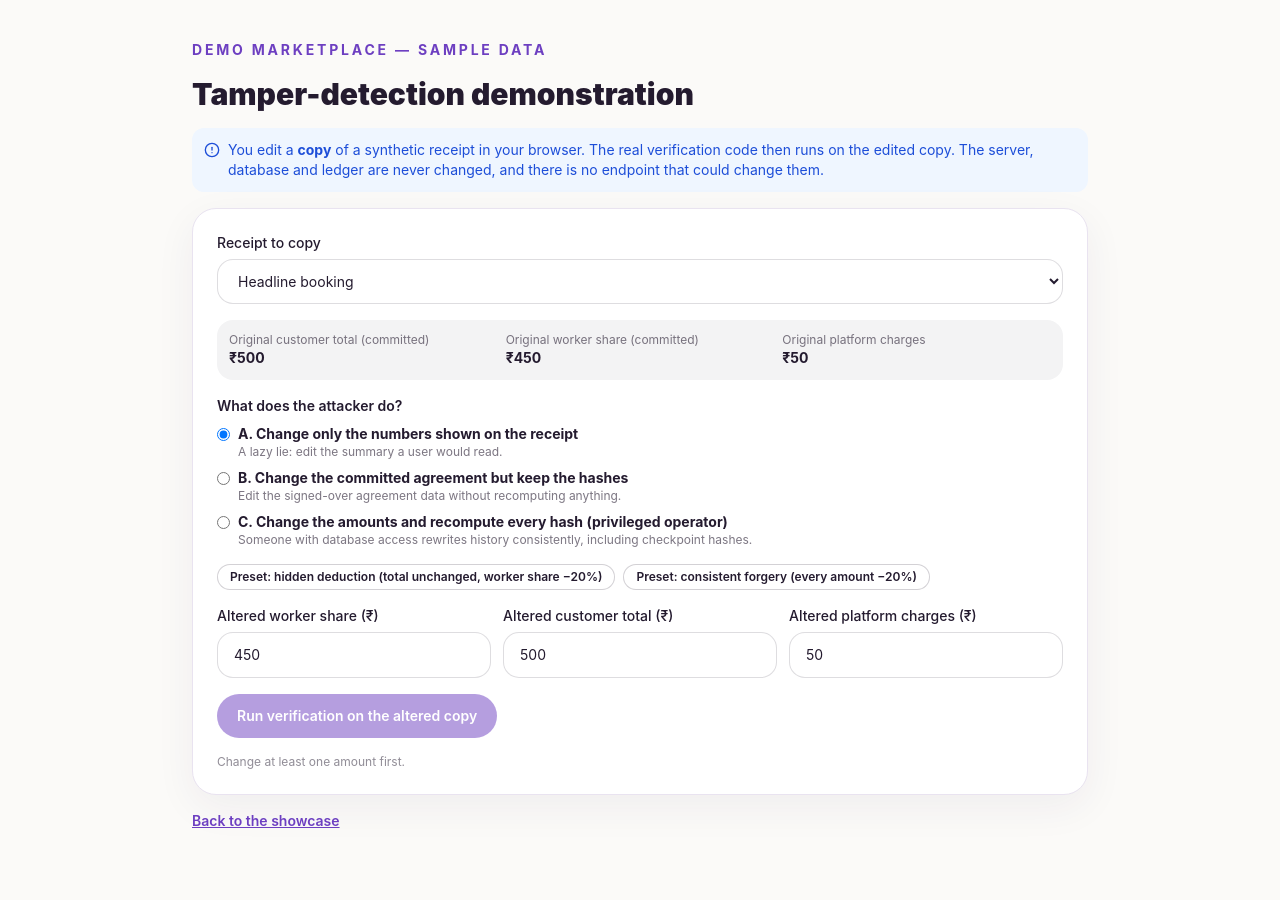
Test: Tamper demonstration page › runs real verification on the edited copy and shows the failure; never contacts a write endpoint
The width and height of the screenshot is (1280, 900).
expect the element with test id "td-original" is shown: met, box [217,320,1063,380]
What coordinates should you click on to do the following:
click the button with test id "preset-hidden"
I would click on:
 (416, 577)
Its box is [217,564,615,590].
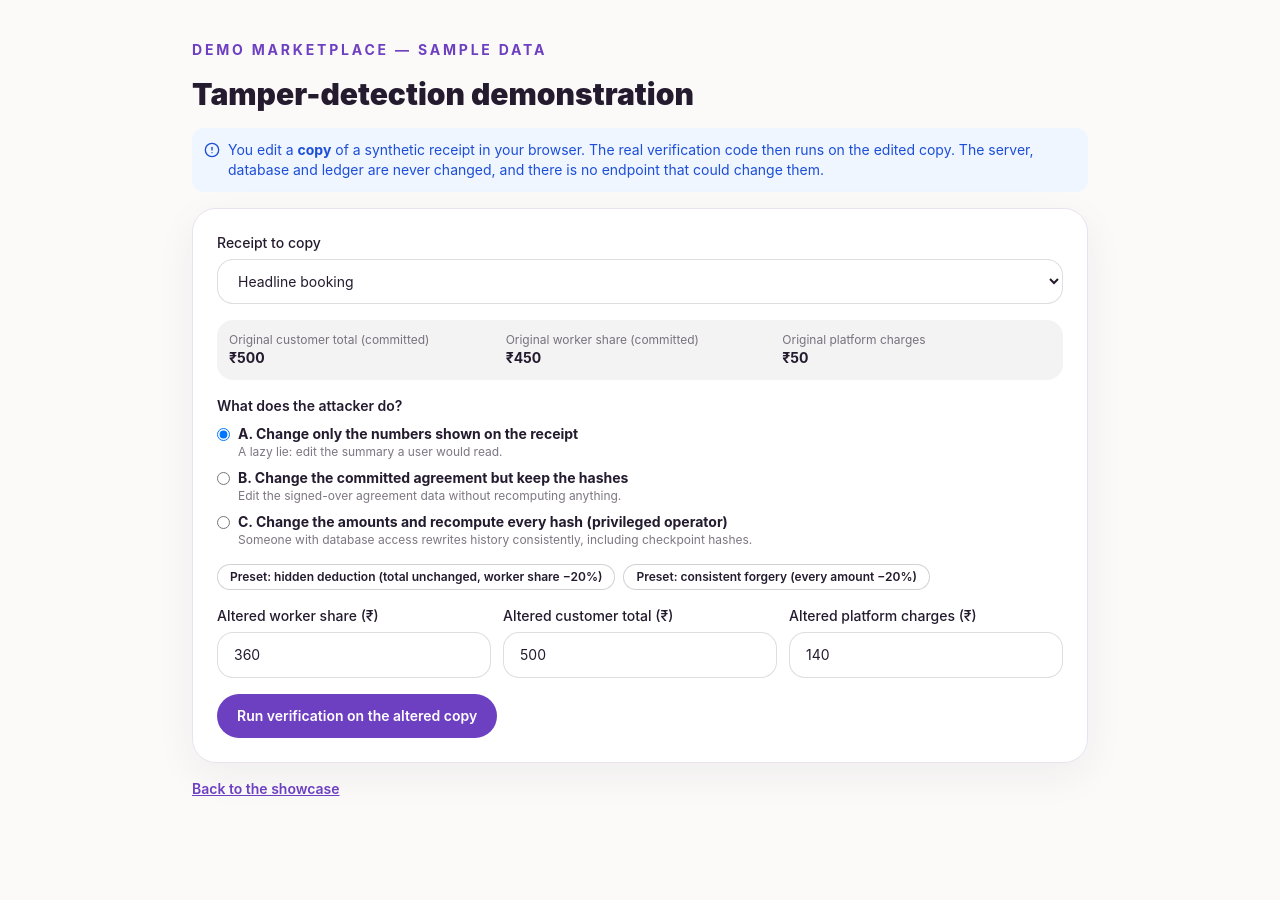
What coordinates should you click on to do the following:
click the button "Run verification on the altered copy"
I would click on:
 (357, 716)
Its box is [217,694,497,738].
(page scrolled)
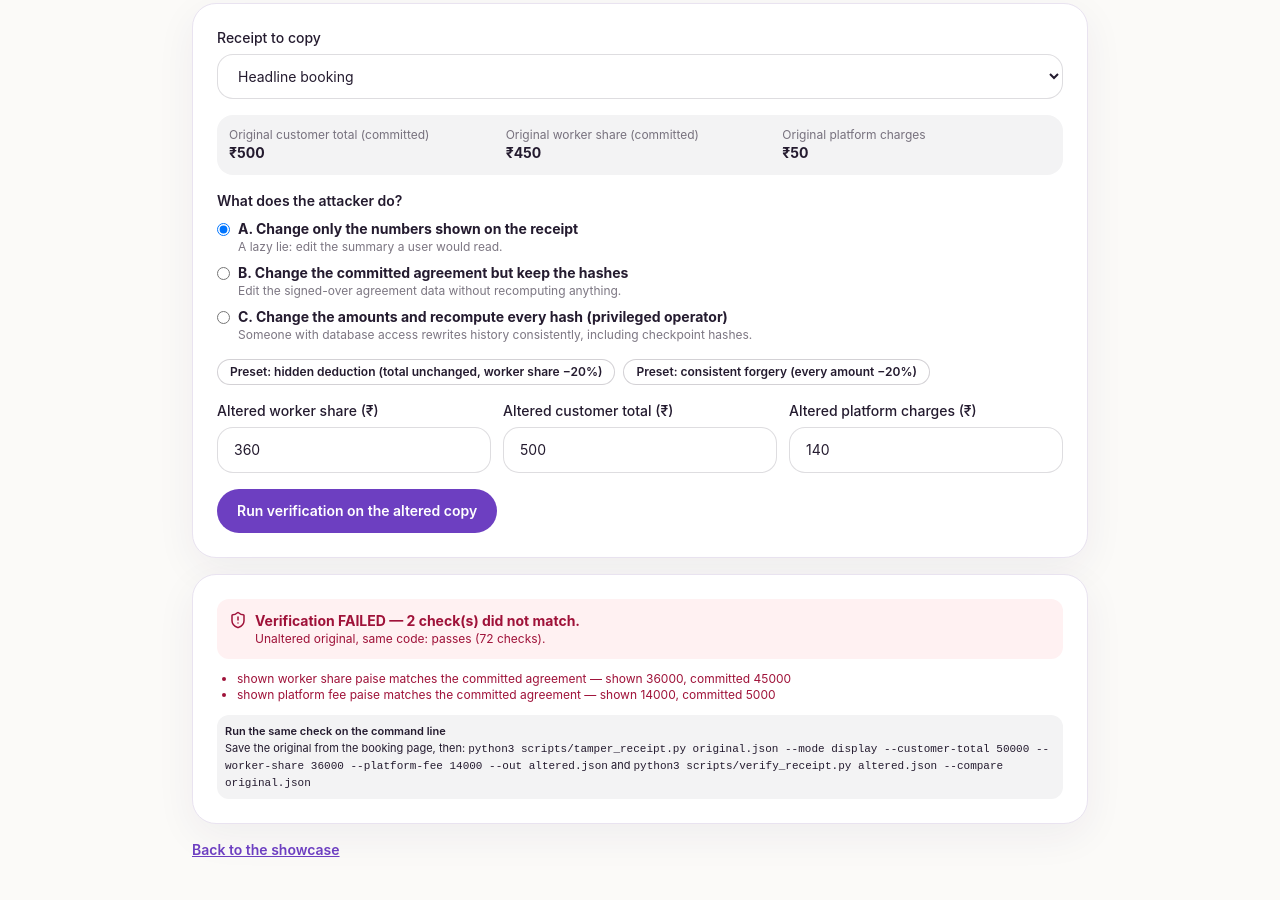
expect the text with test id "td-outcome" shows "Verification FAILED": met, box [255,612,580,629]
